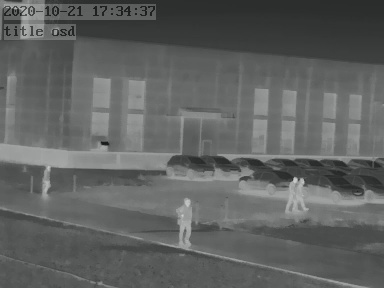person: (177, 197, 193, 245), (291, 178, 304, 210), (41, 164, 52, 196)
vehicle: (306, 173, 363, 202), (237, 170, 290, 194), (166, 152, 212, 179), (349, 173, 383, 200), (204, 153, 241, 177), (232, 155, 270, 172), (261, 155, 296, 169), (347, 156, 380, 170), (317, 156, 348, 170), (279, 155, 312, 168), (296, 156, 326, 170)
